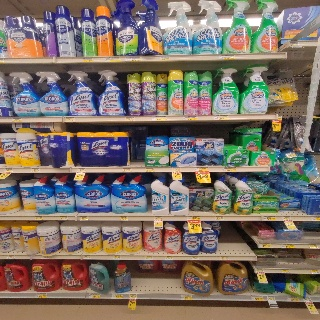All PRICE TAGS: (126, 56, 142, 61), (221, 55, 236, 60), (251, 295, 263, 301), (107, 57, 121, 62), (214, 115, 228, 120), (35, 292, 46, 298), (181, 294, 192, 300), (281, 243, 294, 248), (62, 117, 75, 122), (224, 167, 237, 172), (290, 41, 300, 47), (183, 116, 198, 120), (88, 293, 100, 298), (153, 116, 167, 120), (287, 296, 298, 301), (285, 153, 296, 158), (112, 293, 123, 298), (263, 216, 276, 220), (195, 167, 208, 171), (187, 217, 200, 221), (160, 56, 170, 61), (281, 268, 290, 273), (310, 269, 319, 274), (266, 295, 275, 300), (12, 117, 21, 122), (122, 167, 131, 172), (145, 167, 154, 172), (82, 57, 93, 61), (308, 244, 318, 248), (31, 168, 39, 173), (125, 117, 135, 121), (120, 216, 128, 221), (129, 294, 137, 299), (262, 243, 271, 247), (255, 268, 264, 272), (4, 168, 13, 172), (77, 168, 86, 172), (172, 167, 181, 171), (304, 297, 311, 302), (312, 217, 320, 221), (283, 216, 291, 220), (59, 216, 67, 220), (80, 216, 88, 220), (154, 216, 162, 220), (216, 216, 224, 220), (145, 256, 153, 260), (190, 256, 198, 260), (220, 256, 228, 260), (7, 255, 14, 259), (35, 216, 42, 220), (166, 256, 173, 260), (82, 256, 91, 259), (113, 256, 121, 259), (41, 256, 48, 259)
